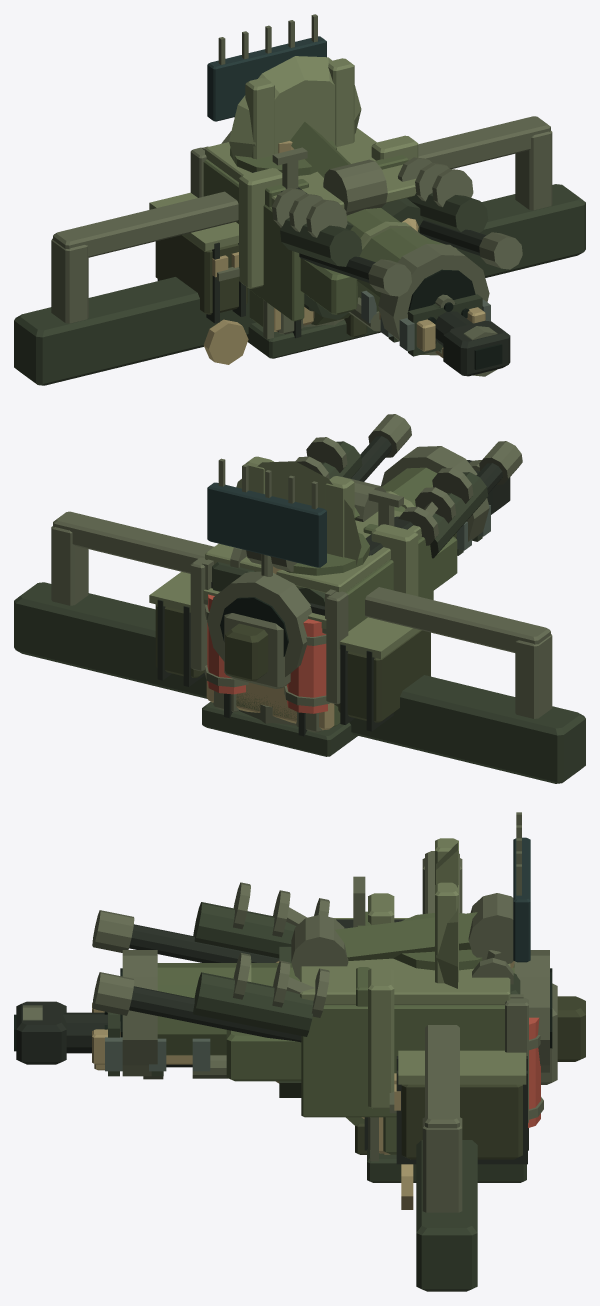
The model's file is military_equipment.glb.
The picture shows the model from 3 angles, top to bottom: view 1: azimuth 30°, elevation 25°; view 2: azimuth 150°, elevation 25°; view 3: azimuth 270°, elevation 25°; orthographic projection. The views are drawn at different scales.
Parts seen in each view (by area): view 1: BASE.013, MOVING.002, MOVING.001, MOVING.009, MOVING.005, BASE.020, BASE.004, BASE.014, MOVING.010, BASE.009, BASE.005, BASE.001 (+1 smaller); view 2: BASE.013, MOVING.002, MOVING.005, MOVING.009, MOVING.006, BASE.009, MOVING.001, BASE.020, BASE.002, MOVING.010, BASE.014, MOVING.003 (+4 smaller); view 3: MOVING.002, MOVING.009, BASE.013, MOVING.001, MOVING.005, BASE.004, MOVING.010, MOVING.003, BASE.009, BASE.020, BASE.014, MOVING.006 (+3 smaller).
Part boxes in pixels (x1,y1,x2,y2): BASE.013: (14, 116, 585, 385); MOVING.002: (149, 14, 522, 323); MOVING.001: (239, 135, 510, 376); MOVING.009: (190, 128, 423, 321); MOVING.005: (221, 131, 489, 355); BASE.020: (229, 56, 361, 161); BASE.004: (290, 122, 387, 215); BASE.014: (245, 58, 354, 159); MOVING.010: (358, 290, 490, 356); BASE.009: (247, 319, 380, 358); BASE.005: (230, 140, 336, 175); BASE.001: (249, 290, 273, 339); BASE.013: (14, 511, 585, 783); MOVING.002: (149, 414, 522, 731); MOVING.005: (207, 446, 489, 676); MOVING.009: (190, 510, 433, 704); MOVING.006: (204, 594, 329, 713); BASE.009: (202, 701, 357, 756); MOVING.001: (371, 460, 510, 596); BASE.020: (236, 461, 361, 565); BASE.002: (203, 588, 334, 736); MOVING.010: (224, 505, 490, 688); BASE.014: (239, 456, 354, 710); MOVING.003: (225, 623, 338, 706); MOVING.002: (92, 812, 530, 1164); MOVING.009: (276, 918, 528, 1122); BASE.013: (401, 851, 477, 1291); MOVING.001: (14, 893, 394, 1109); MOVING.005: (120, 876, 552, 1076); BASE.004: (291, 893, 514, 979); MOVING.010: (92, 983, 557, 1084); MOVING.003: (355, 996, 585, 1154); BASE.009: (367, 1149, 526, 1182); BASE.020: (436, 843, 457, 988); BASE.014: (435, 838, 458, 983); MOVING.006: (94, 1012, 543, 1127).
Bounding box in the file's own units: 3.32 × 1.6 × 2.61.
1 material, 1 textured.
